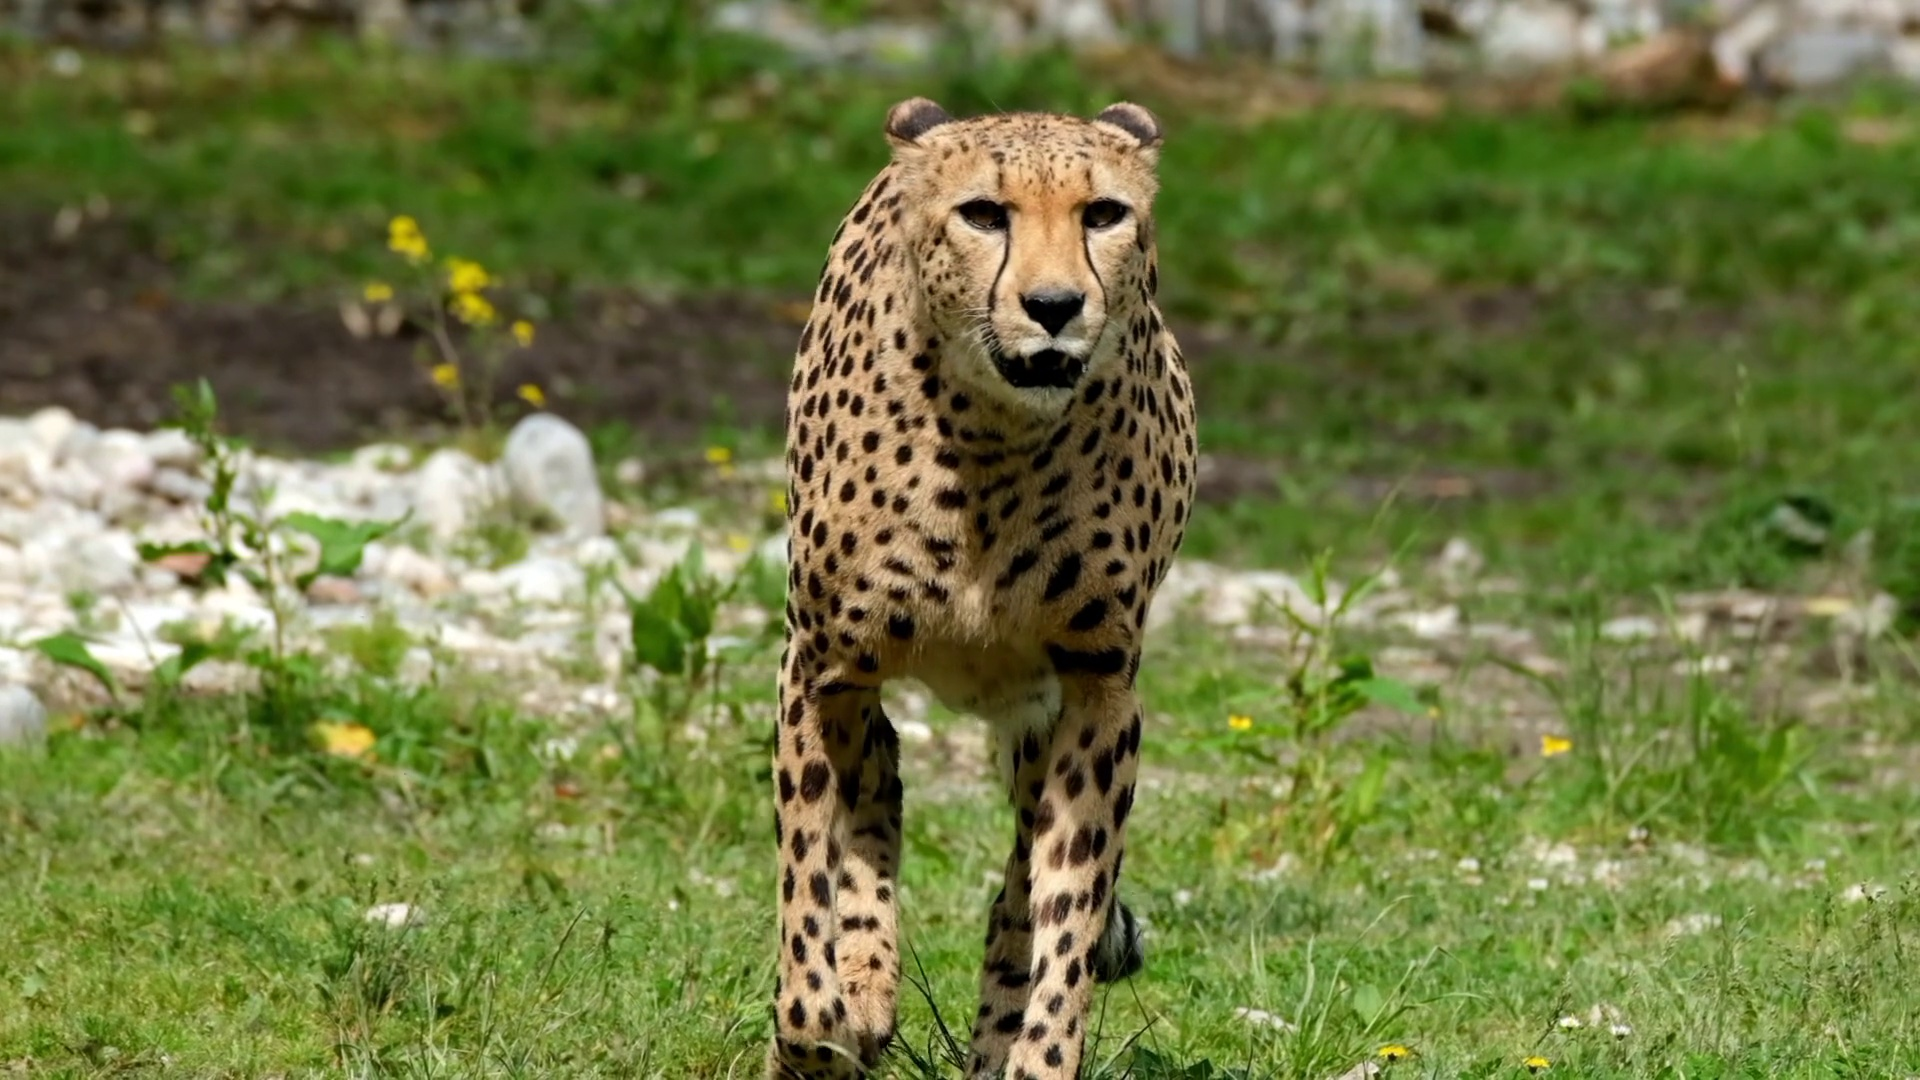Cheetah: (764, 95, 1207, 1080)
